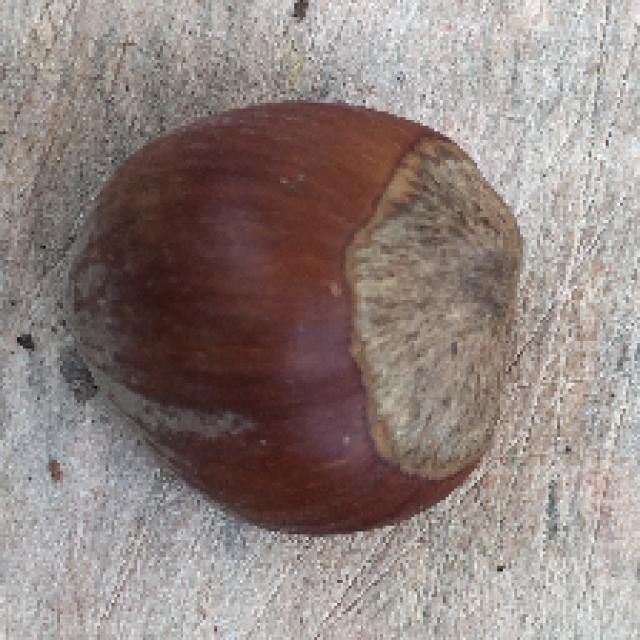damagedHazelnut: (82, 93, 517, 535)
